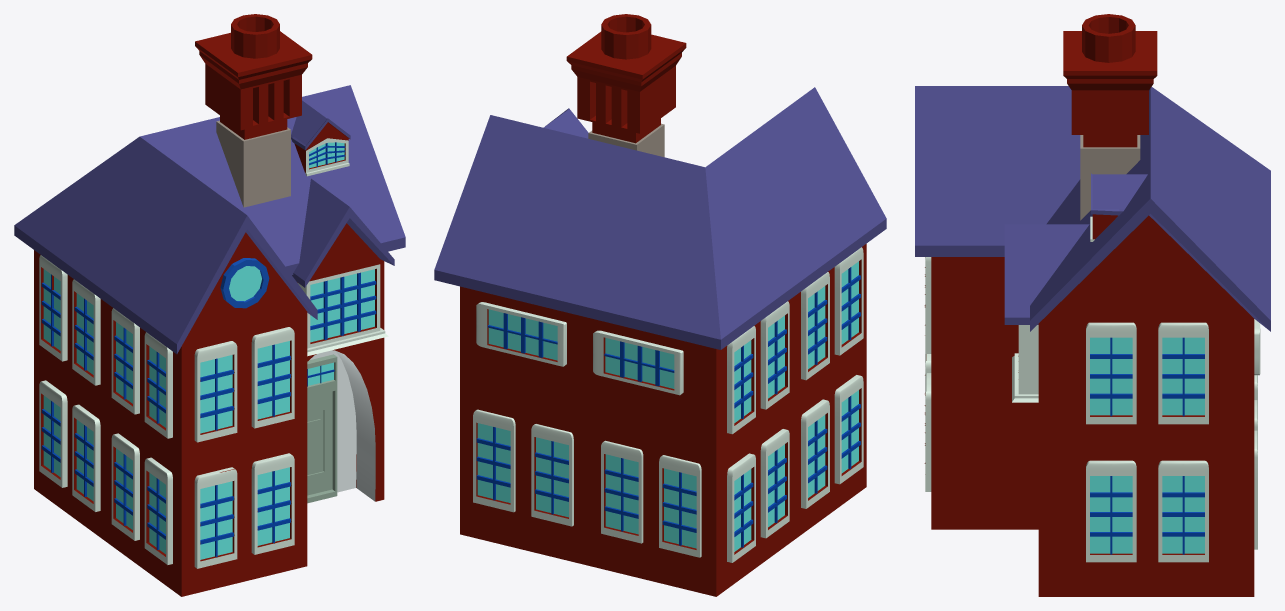
The model's file is Bora_5.fbx.
The picture shows the model from 3 angles, left to right: view 1: azimuth 30°, elevation 25°; view 2: azimuth 150°, elevation 25°; view 3: azimuth 270°, elevation 25°; orthographic projection. The views are drawn at different scales.
Parts seen in each view (by area): view 1: Cube; view 2: Cube; view 3: Cube.
Boxes of the visible parts, <box> form: Cube: <box>14,14,405,596</box>; Cube: <box>434,14,886,596</box>; Cube: <box>915,14,1270,596</box>.
Bounding box in the file's own units: 450 × 727 × 451.
